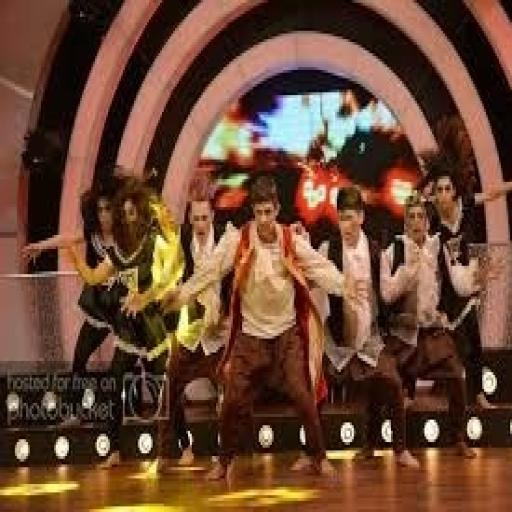dancing: (247, 92, 512, 492), (27, 139, 293, 506), (205, 170, 346, 486)
